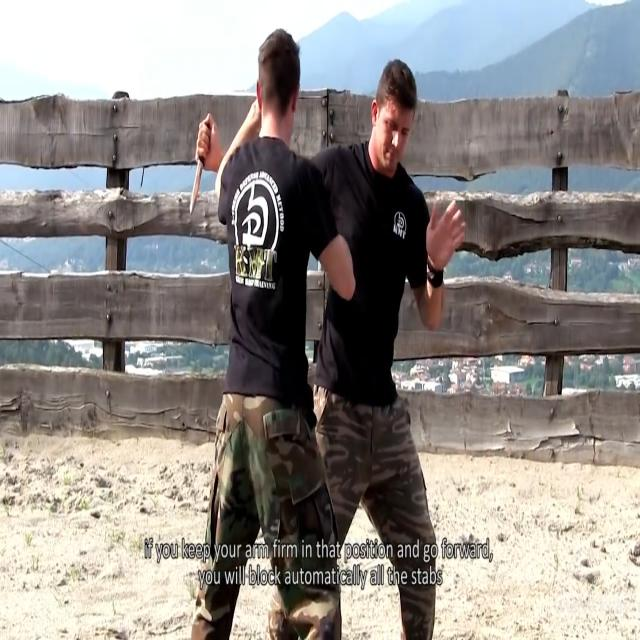knife: (187, 160, 209, 219)
